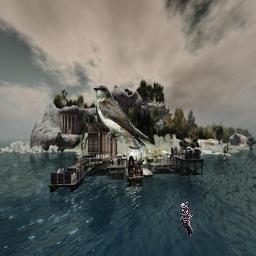Swallow: (93, 85, 155, 153)
Woodpecker: (180, 201, 193, 238)
